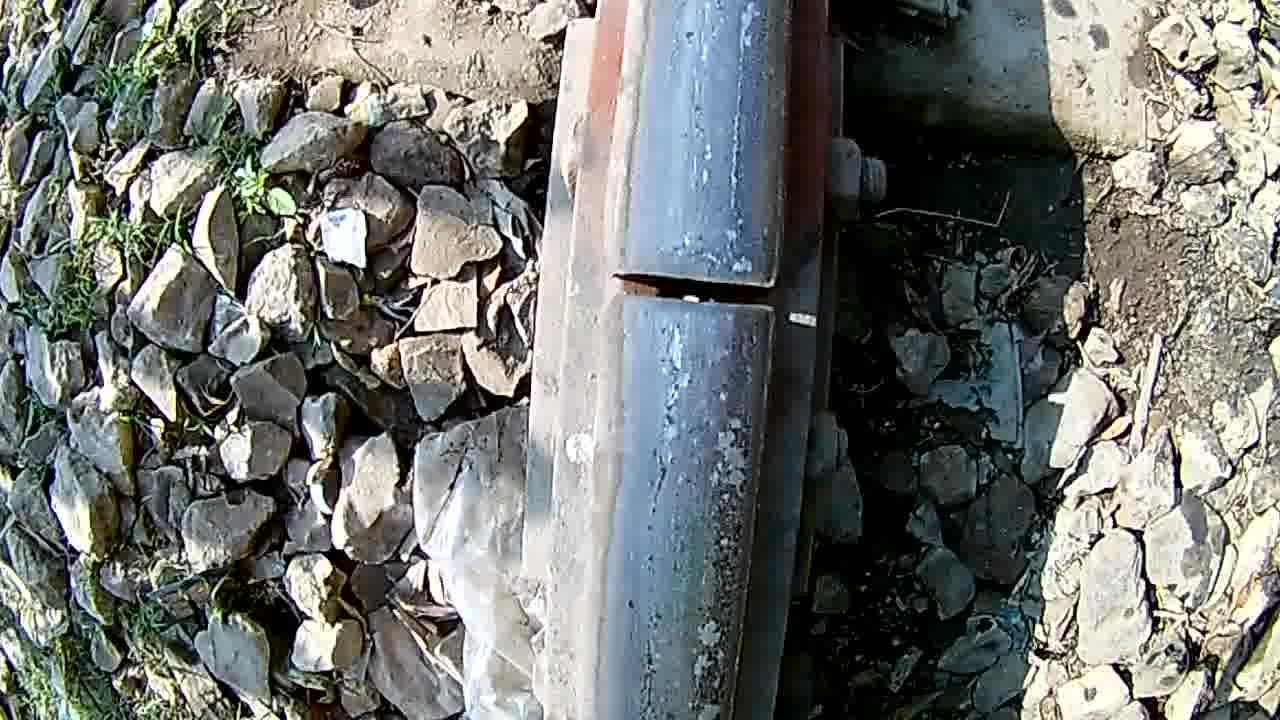clip_missing: (600, 346, 779, 720)
